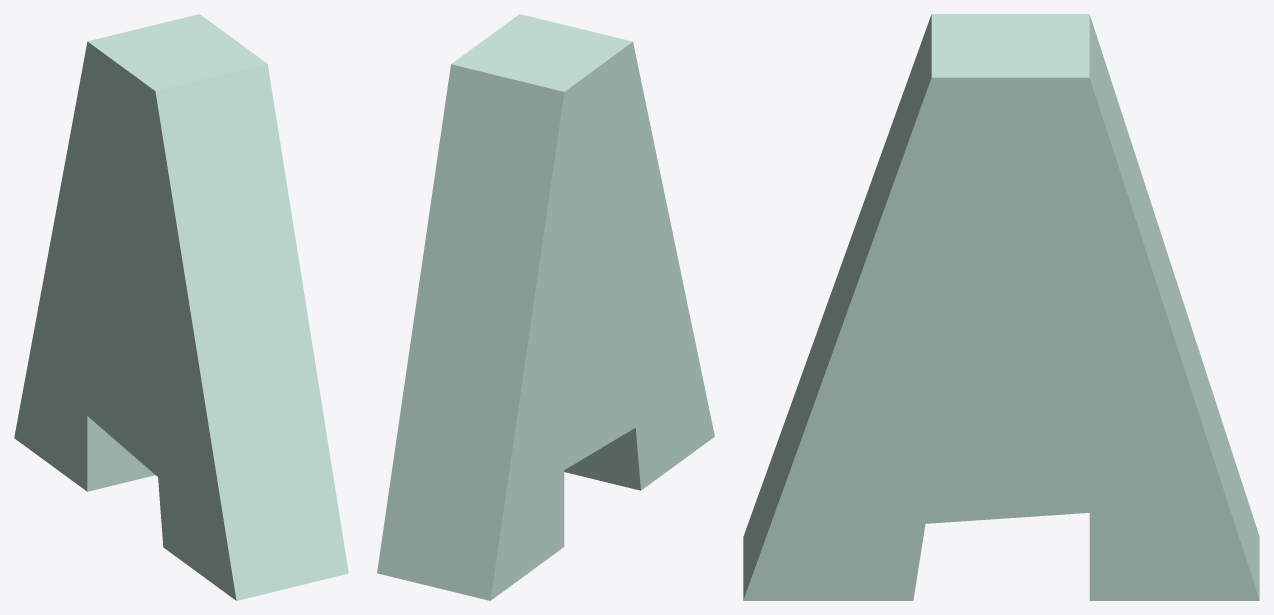
3 renders of one model, left to right at view 1: azimuth 30°, elevation 25°; view 2: azimuth 150°, elevation 25°; view 3: azimuth 270°, elevation 25°, orthographic. The views are drawn at different scales.
Parts seen in each view (by area): view 1: Renderer Node; view 2: Renderer Node; view 3: Renderer Node.
Part boxes in pixels (left/top/right/bottom): Renderer Node: left=14, top=14, right=348, bottom=600; Renderer Node: left=377, top=14, right=714, bottom=600; Renderer Node: left=743, top=14, right=1259, bottom=600.
Bounding box in the file's own units: 0.1875 × 0.7188 × 0.6431.
